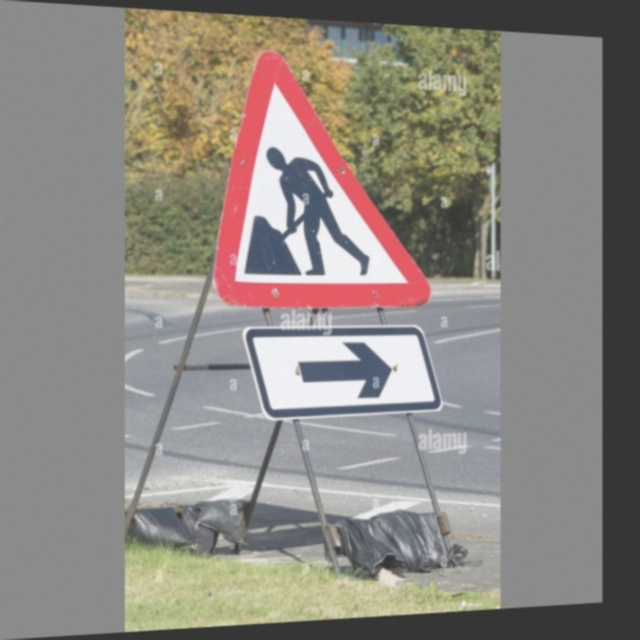Men_at_Work: (189, 48, 438, 308)
